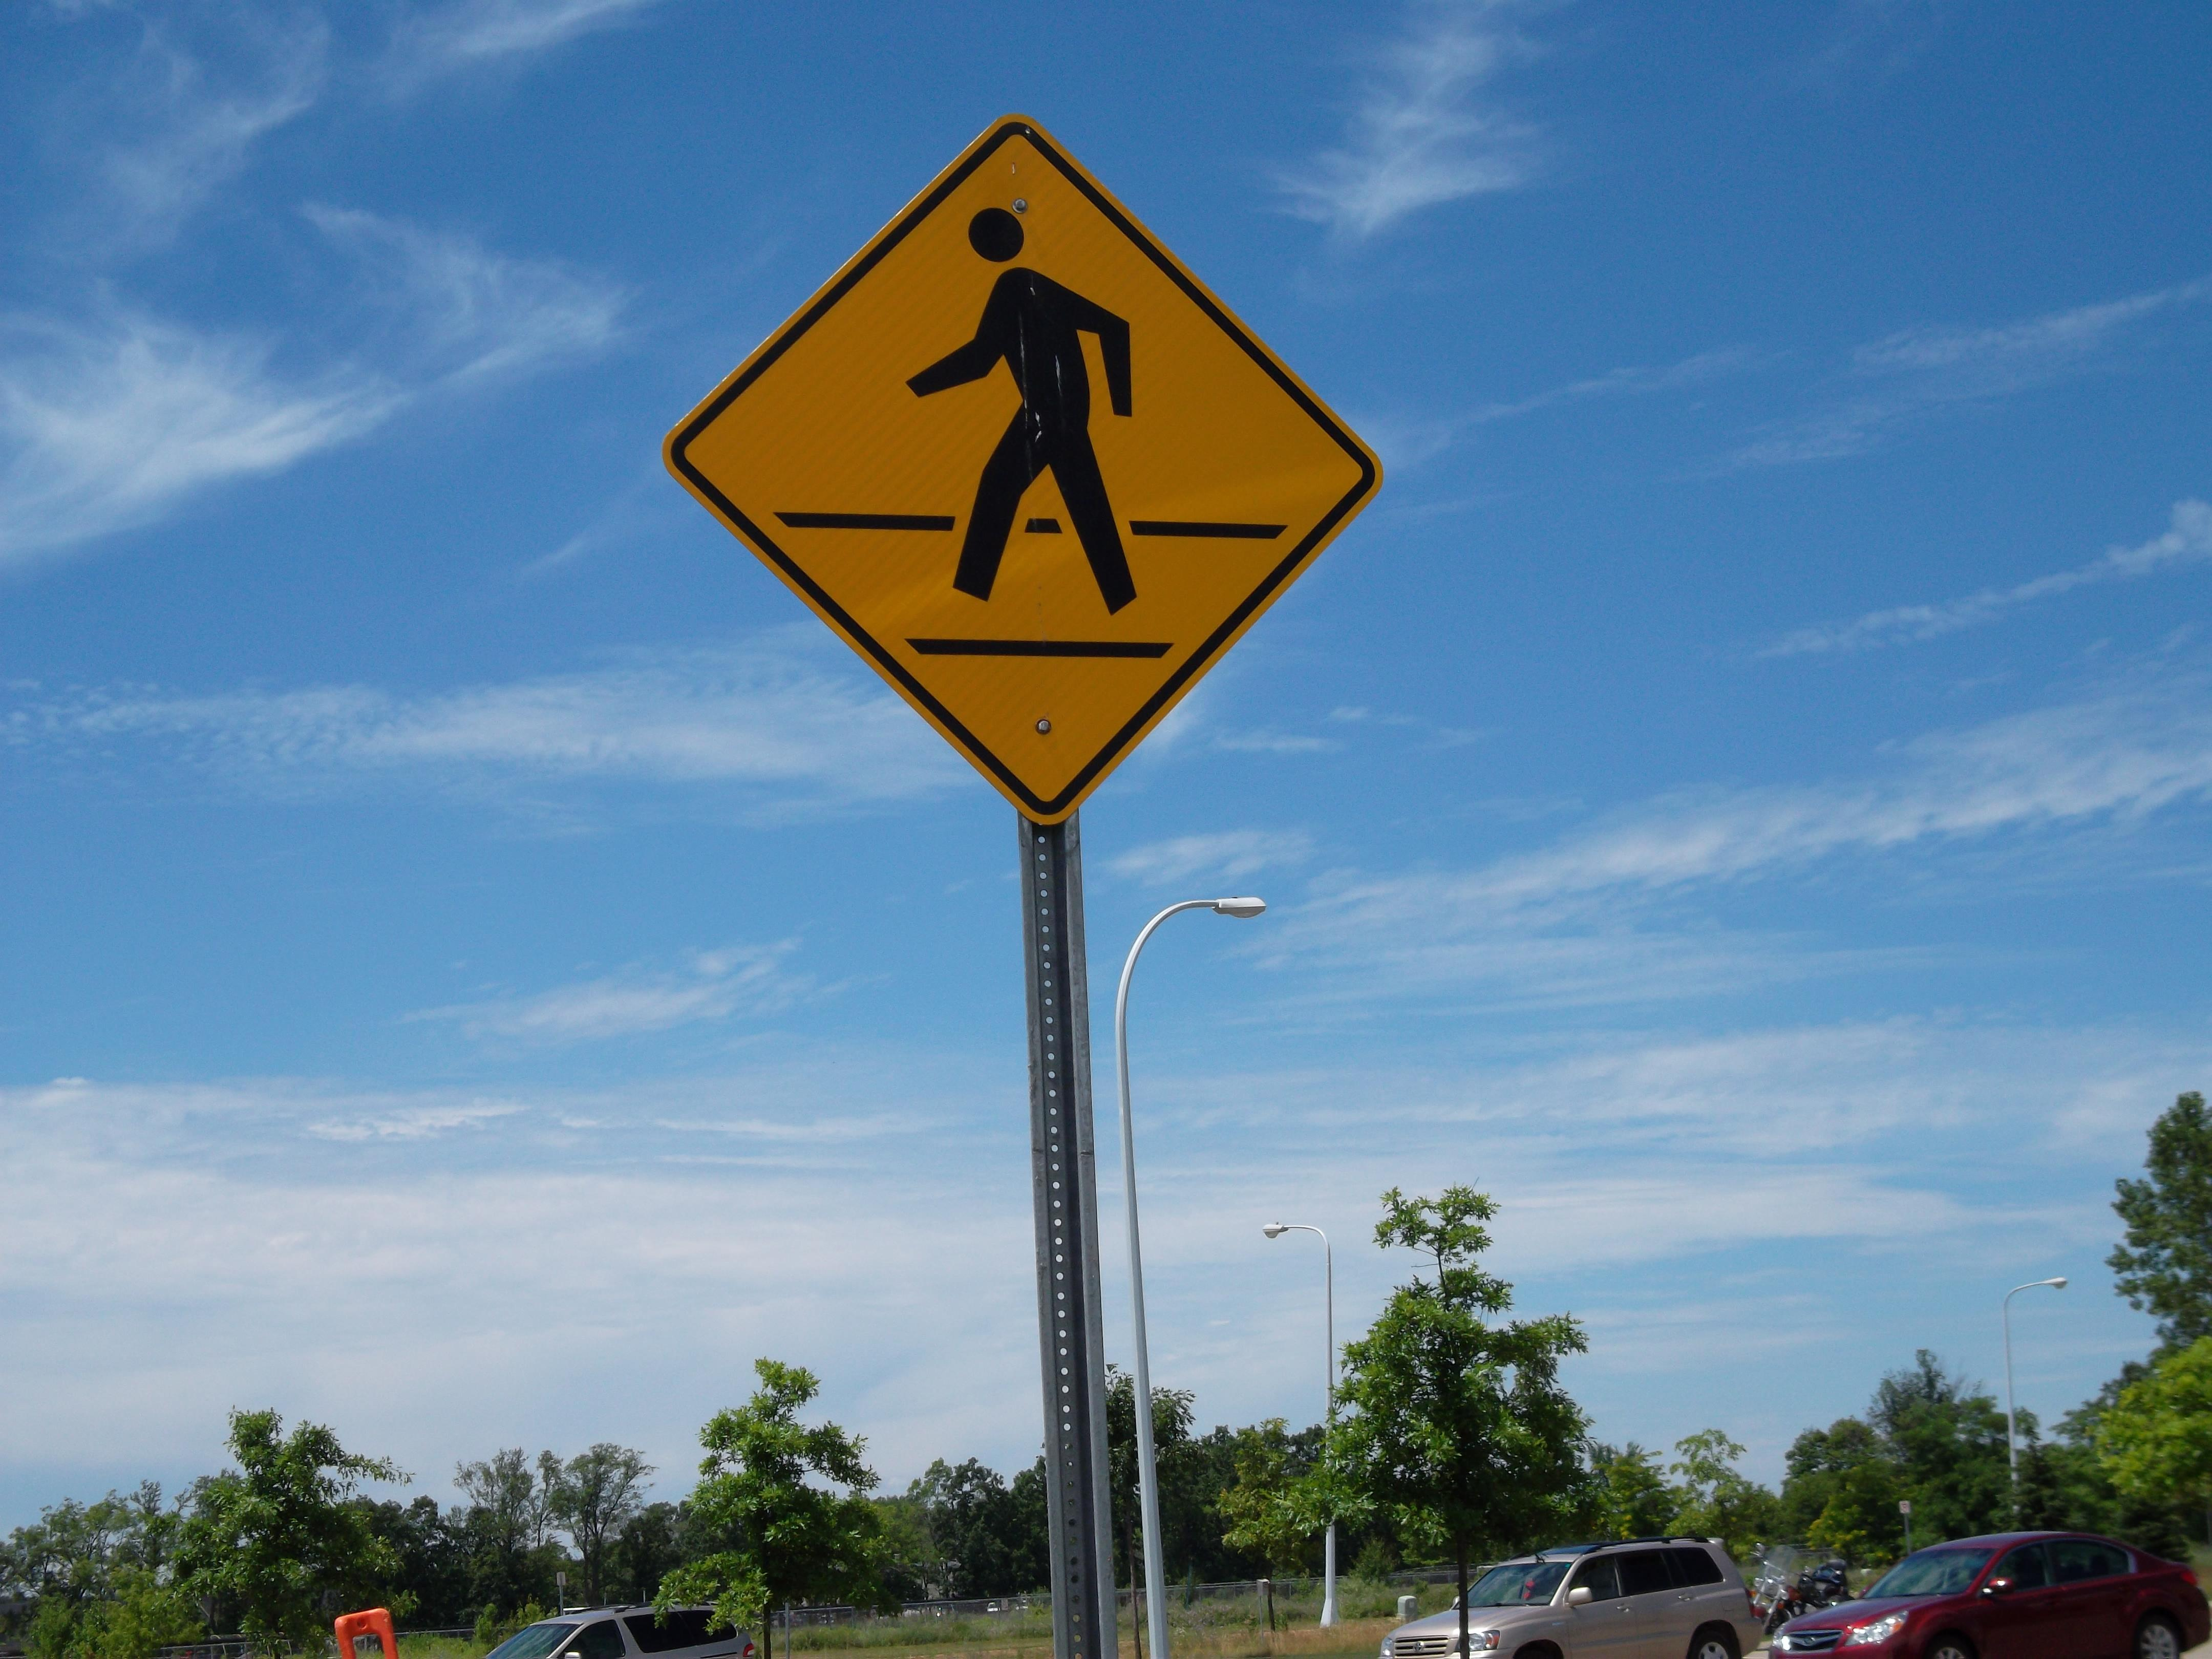warning: (665, 115, 1386, 821)
